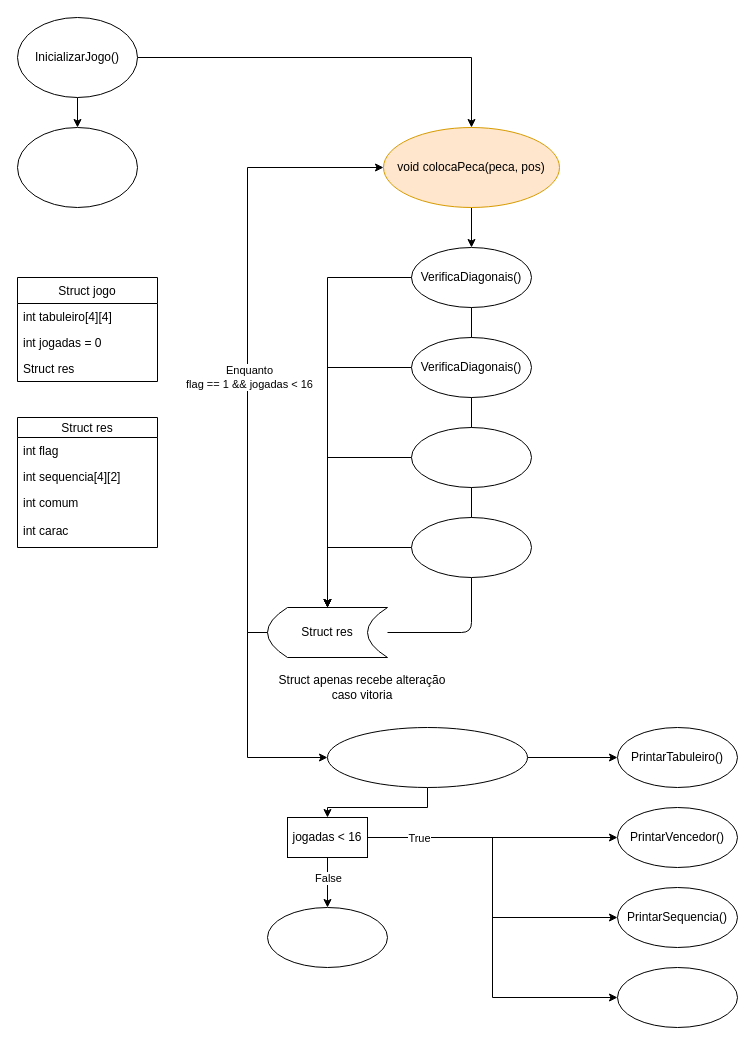
This 755x1045 diagram has some shape labels left out. Each missing label, with the centre of its shape:
InicializarTabuleiro(): (x=77, y=167)
PrintarCarac(): (x=677, y=997)
printf("0\n");: (x=327, y=937)
VerificaColunas(): (x=471, y=457)
VerificaLinhas(): (x=471, y=547)
void printarResultado(): (x=427, y=757)
